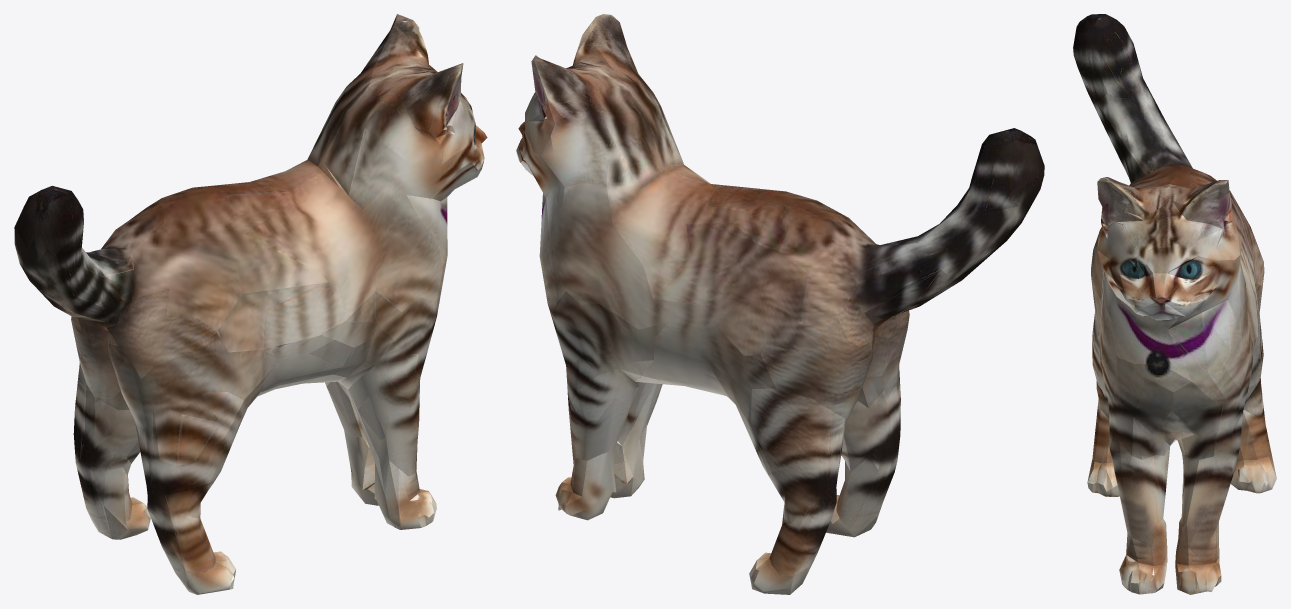
Rendered from NALACATCAT-lo.glb.
3 renders of one model, left to right at view 1: azimuth 30°, elevation 25°; view 2: azimuth 150°, elevation 25°; view 3: azimuth 270°, elevation 25°, orthographic. The views are drawn at different scales.
Visible parts, largest first — view 1: output_unwrapped; view 2: output_unwrapped; view 3: output_unwrapped.
Boxes of the visible parts, x1,y1,x2,y2 form: output_unwrapped: (14, 14, 487, 594); output_unwrapped: (516, 14, 1044, 594); output_unwrapped: (1073, 14, 1276, 594).
Bounding box in the file's own units: 1.12 × 1 × 0.4371.
Materials: 1 (1 with a texture image).
